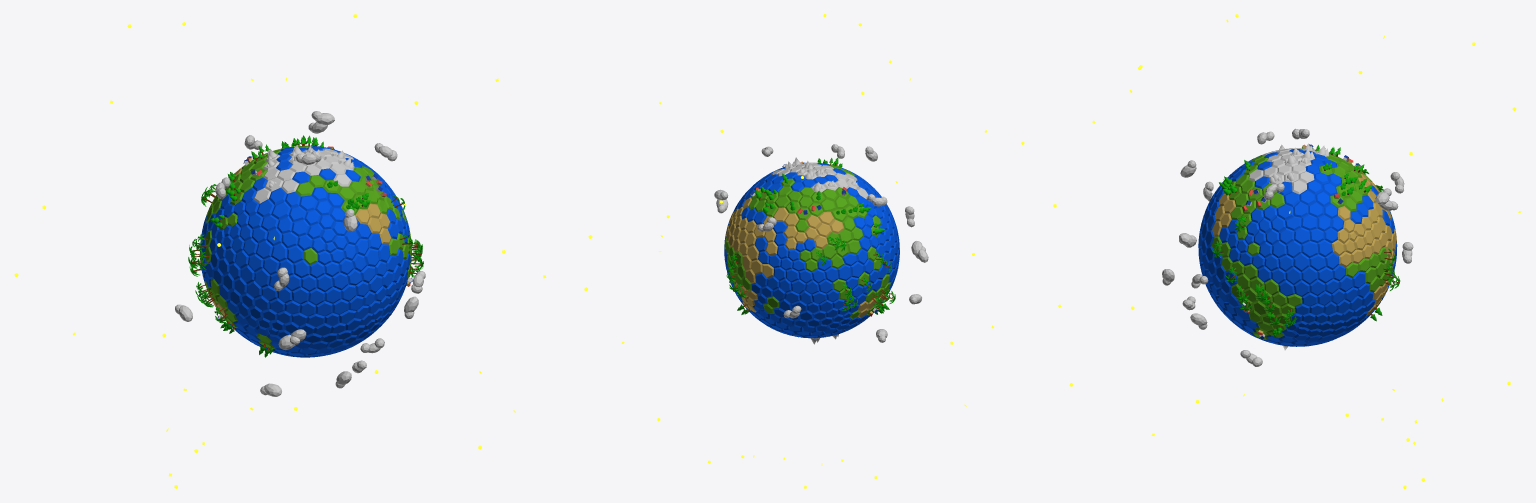
File: planet_earth.glb
The picture shows the model from 3 angles, left to right: view 1: azimuth 30°, elevation 25°; view 2: azimuth 150°, elevation 25°; view 3: azimuth 270°, elevation 25°; orthographic projection. The views are drawn at different scales.
Parts seen in each view (by area): view 1: Earth, Clouds and Stars, Earth Details; view 2: Earth, Earth Details, Clouds and Stars; view 3: Earth, Earth Details, Clouds and Stars.
Part boxes in pixels (x1,y1,x2,y2): Earth: (200,145,411,357); Clouds and Stars: (14,14,592,488); Earth Details: (188,135,423,357); Earth: (724,162,899,338); Earth Details: (726,157,895,344); Clouds and Stars: (621,14,1024,488); Earth: (1198,148,1397,346); Earth Details: (1212,143,1400,350); Clouds and Stars: (1053,14,1521,488).
Bounding box in the file's own units: 18.1 × 18.4 × 17.05.
